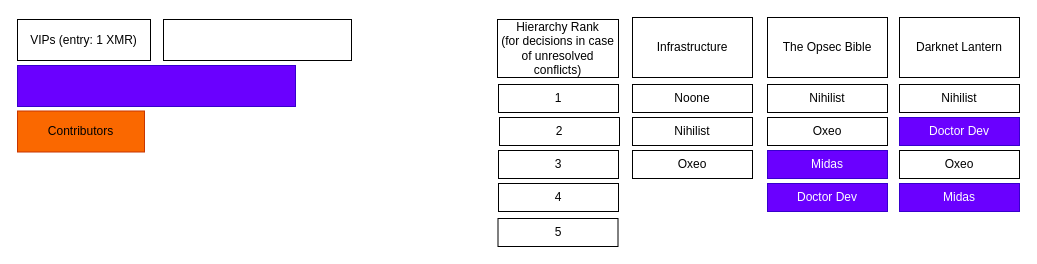
Some shapes in this 1037 by 264 pixel diagram are drawn without their labels. The shapes that lost their labels are listed below. From the top down, each one's centre as x and y in pixels, then its label:
At point (257, 39): "Administrators (entry: top maintainer or 7XMR /year)".
At point (156, 85): "Maintainers (entry: ability to submit completed complex tutorials in one go)".
